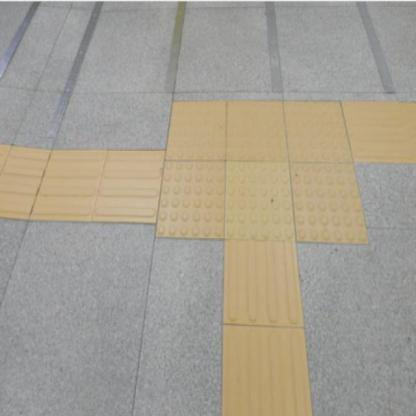podotacti: (119, 48, 402, 326), (226, 242, 312, 415), (0, 140, 159, 221), (355, 103, 415, 160)
